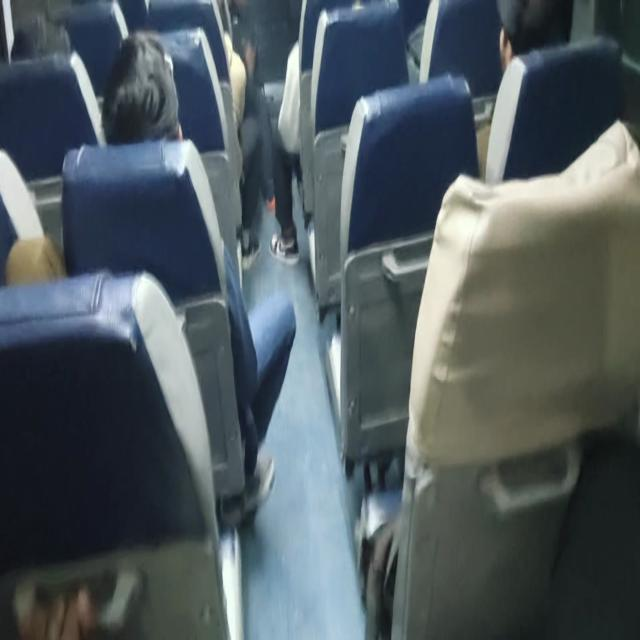person: (99, 29, 297, 525), (268, 0, 352, 265), (473, 0, 573, 180), (222, 28, 276, 260), (100, 30, 183, 146), (496, 0, 573, 75)
